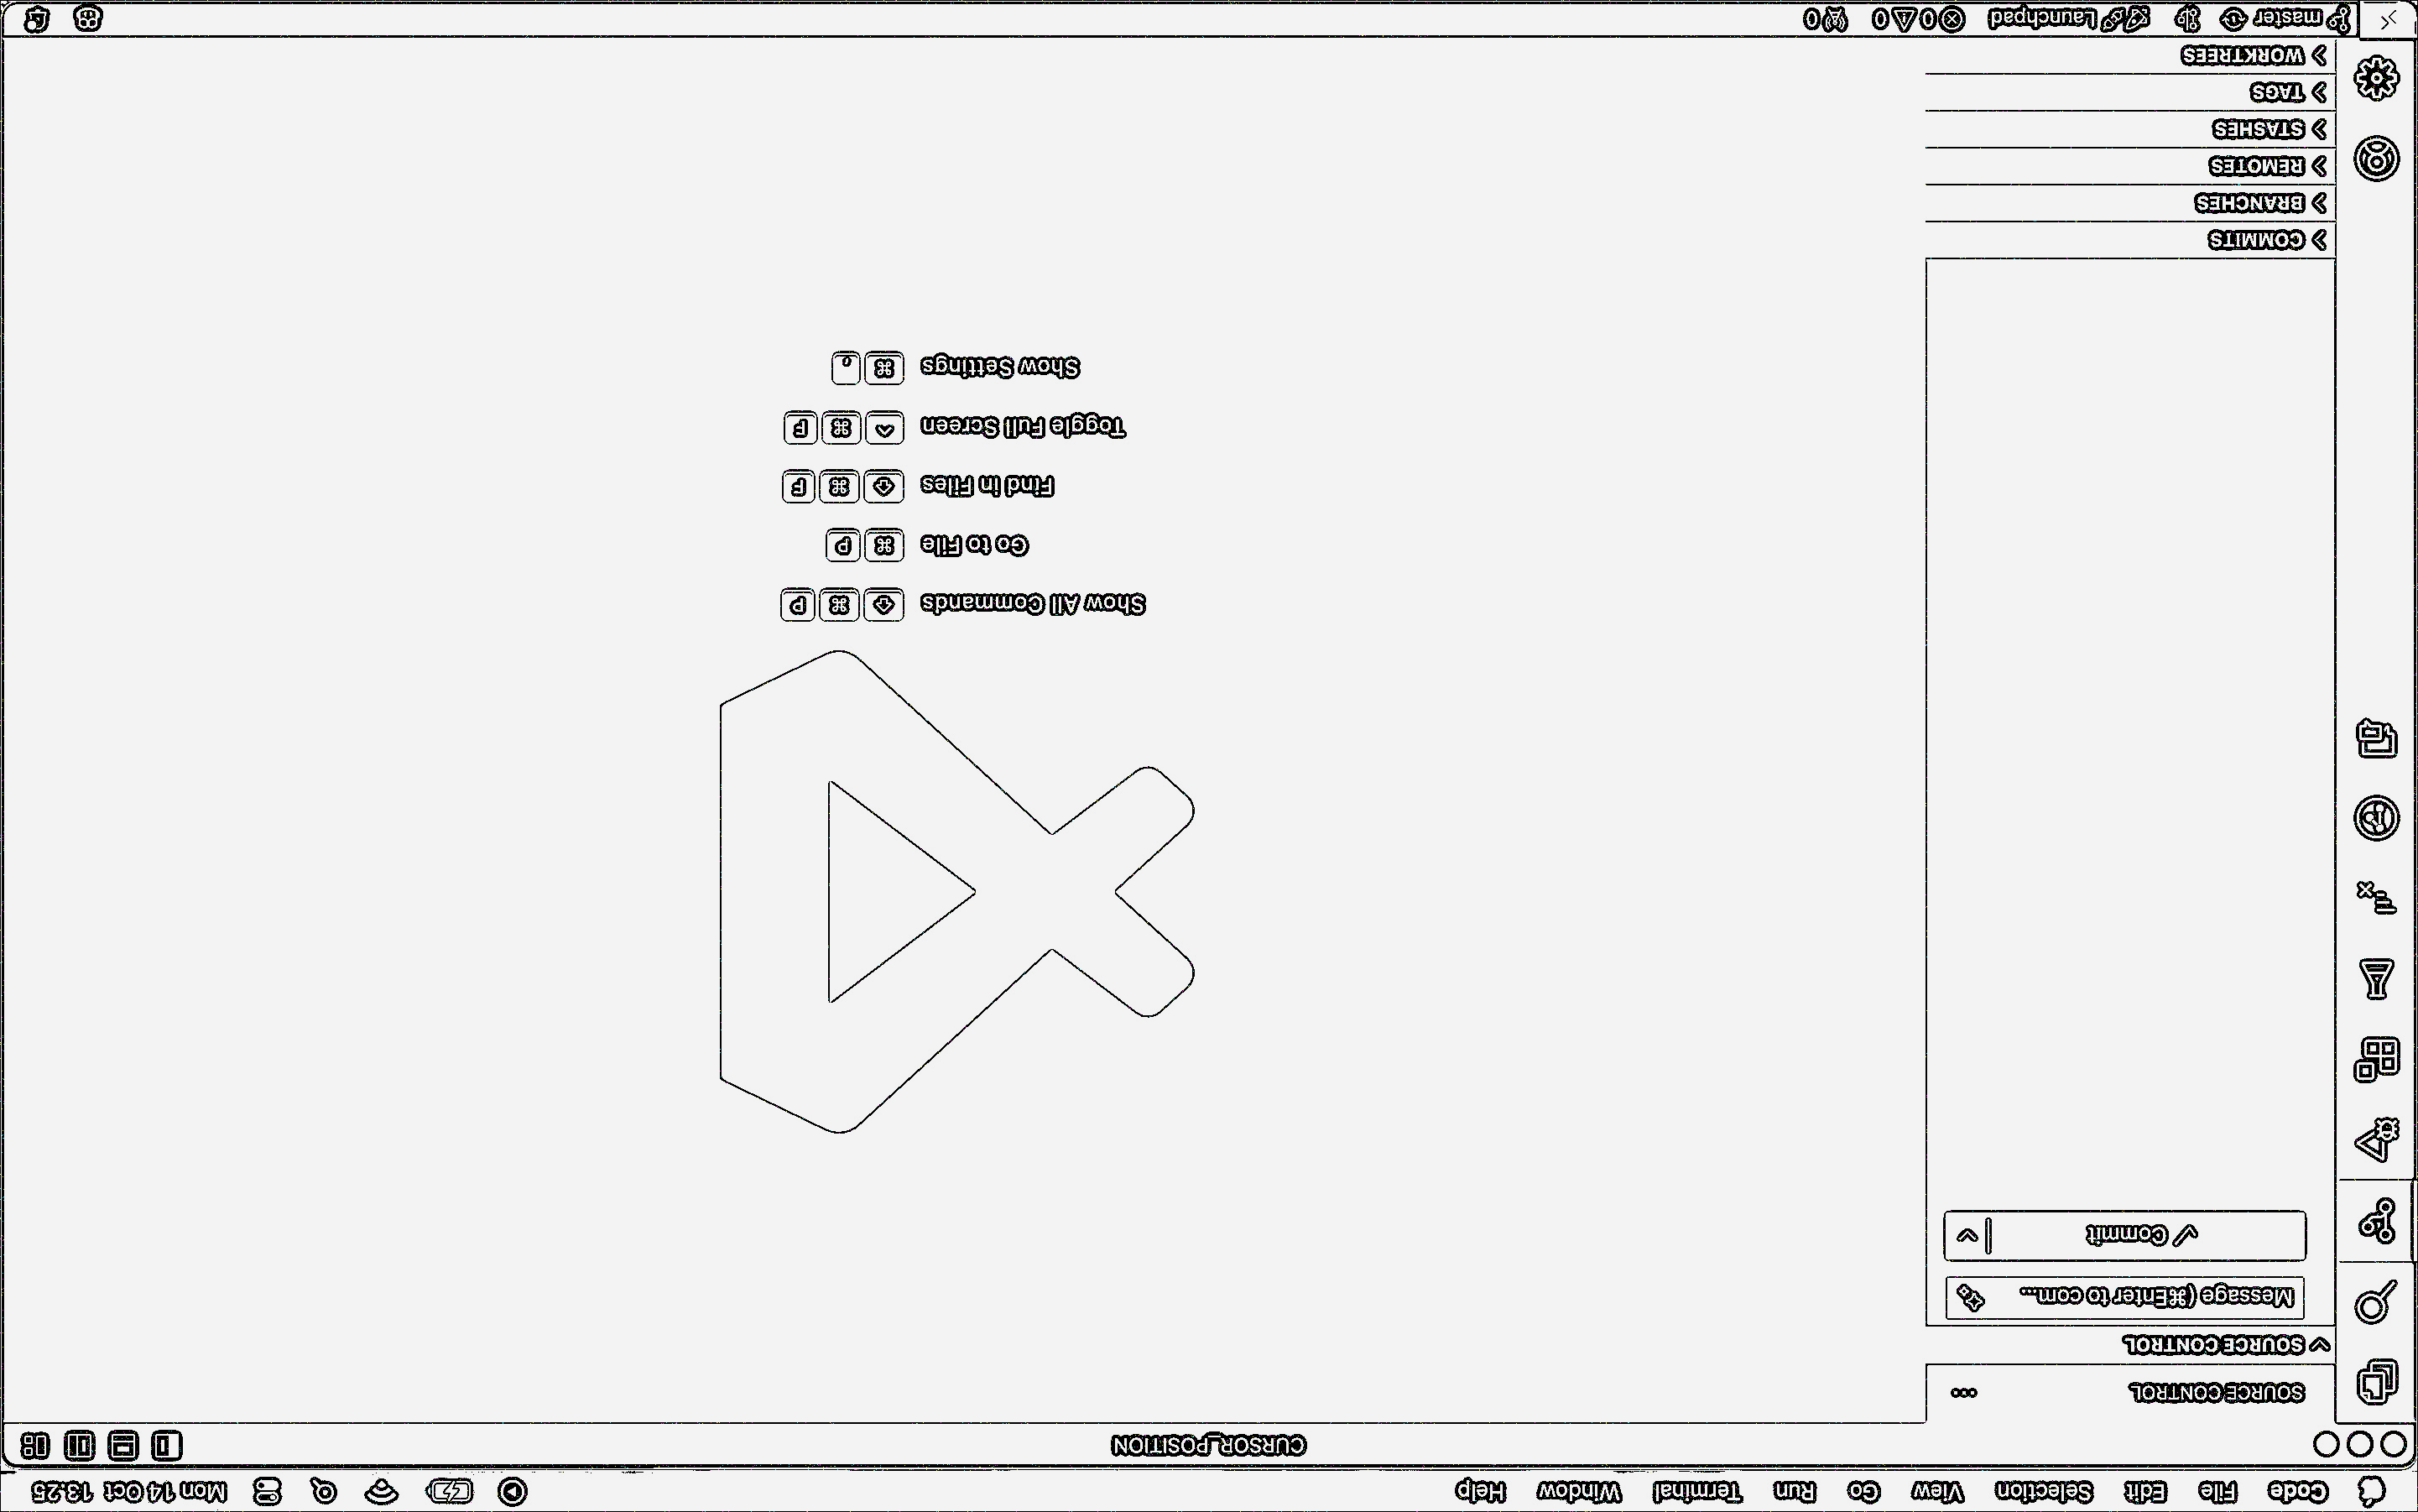Accounts: (2338, 127, 2413, 183)
Activity Bar: (2334, 40, 2415, 1425)
Editor: (7, 42, 1918, 1420)
Explorer: (2345, 1350, 2409, 1411)
Extensions: (2341, 1028, 2406, 1087)
Manage: (2341, 52, 2413, 110)
Primary Side Bar: (1927, 40, 2333, 1421)
Run and Debug: (2350, 1108, 2409, 1164)
Search: (2348, 1259, 2404, 1333)
Source Control: (2350, 1185, 2406, 1251)
Status Bar: (7, 7, 2415, 40)
Testing: (2347, 946, 2406, 1003)
